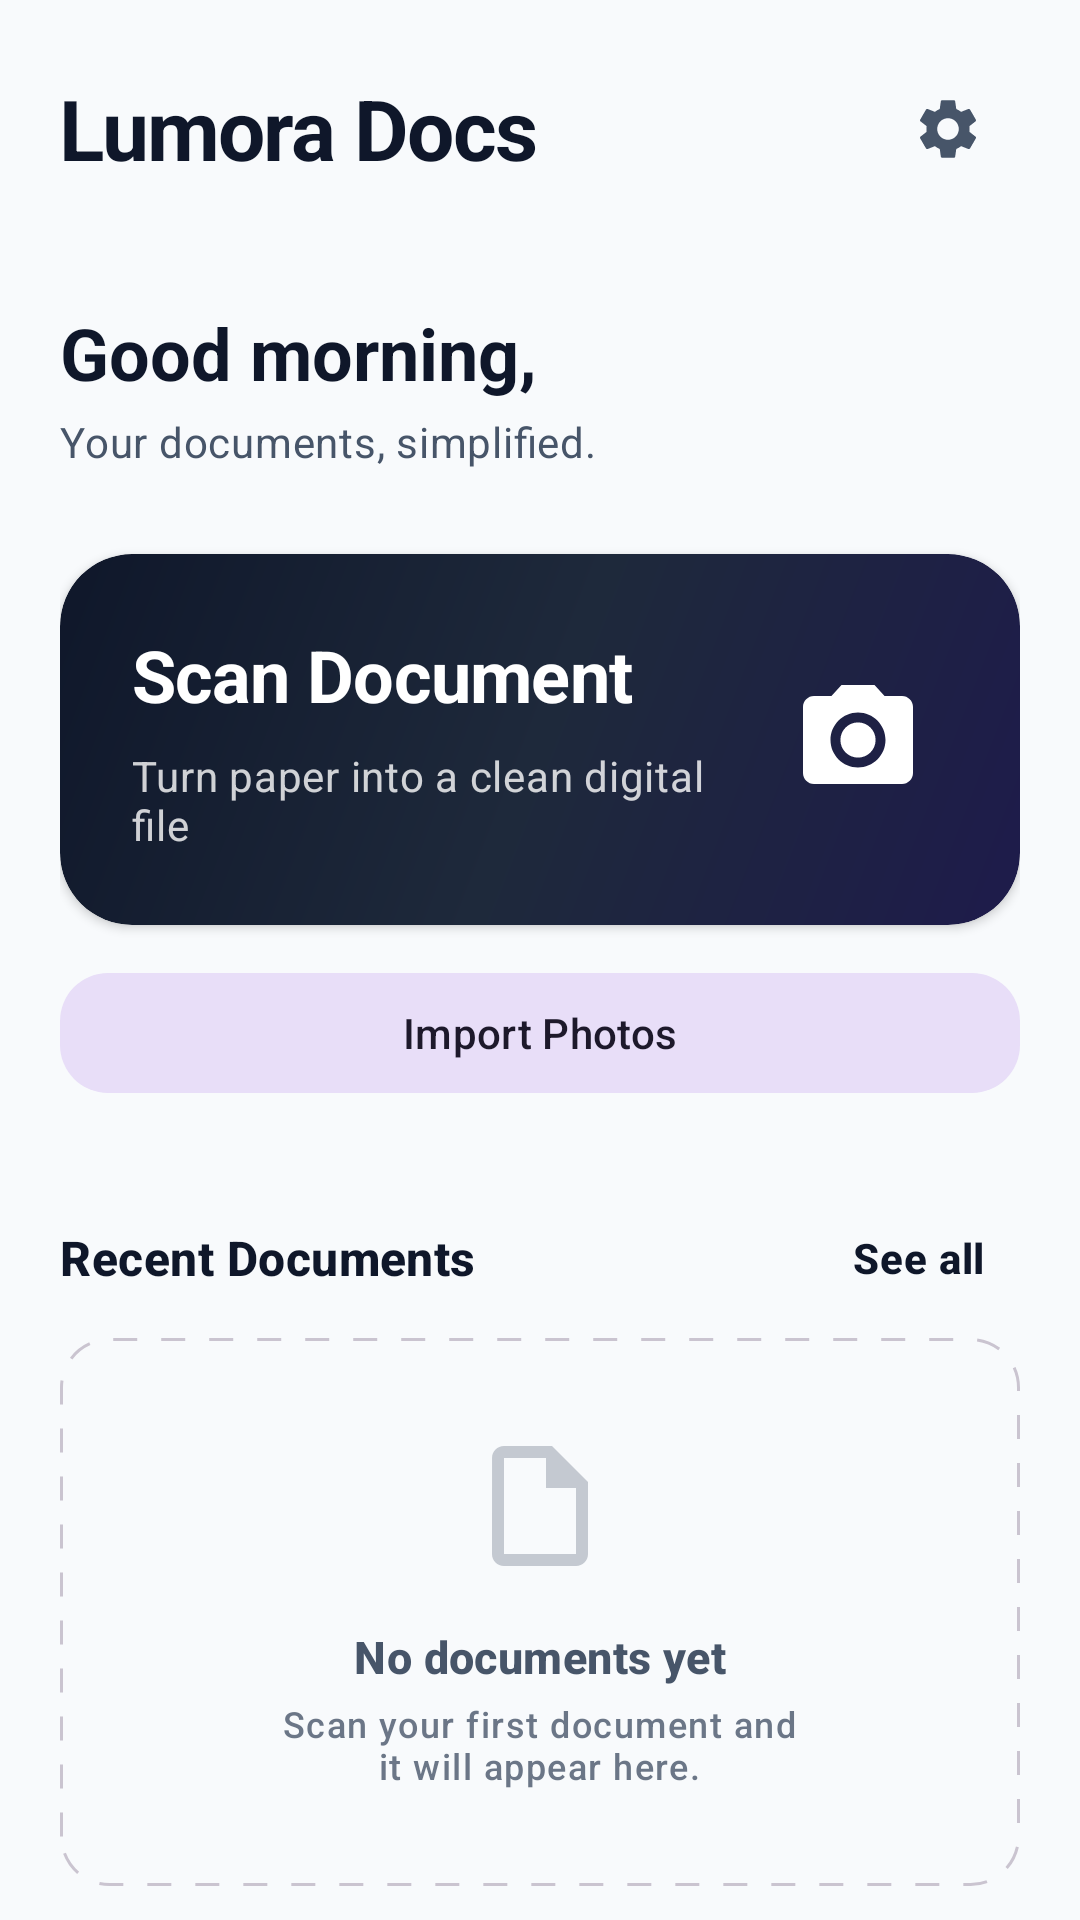

Icons on this 1080×1920 Android screen, each with its box as (x1=x1, y1=y1, x2=x2, y2=y2):
empty docs: (x1=492, y1=1446, x2=588, y2=1566)
Settings: (x1=920, y1=100, x2=976, y2=158)
